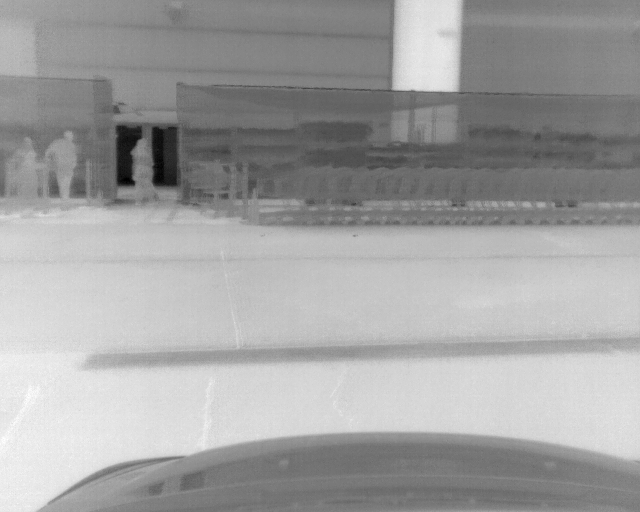people: (44, 130, 74, 206), (14, 137, 41, 208), (131, 138, 158, 205)
